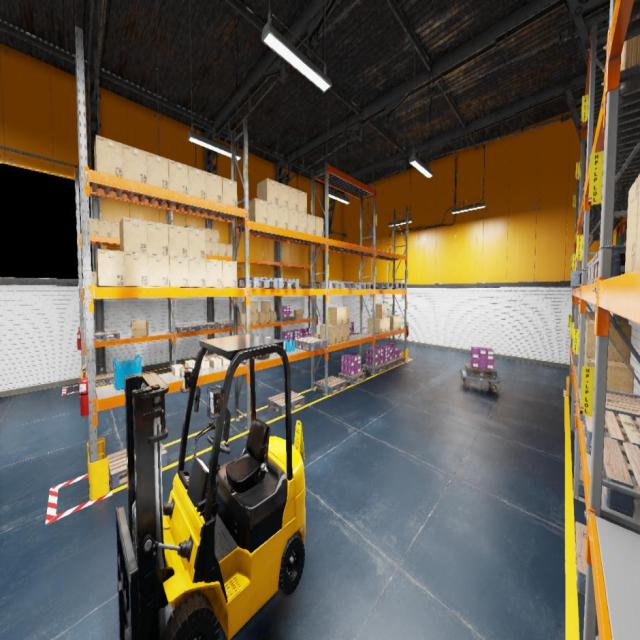box: (585, 358, 634, 398), (585, 321, 631, 363), (624, 174, 640, 273), (585, 320, 627, 354), (94, 135, 123, 177), (96, 249, 125, 287), (120, 217, 148, 254), (123, 144, 148, 184), (146, 152, 169, 189), (124, 252, 148, 286), (147, 222, 169, 256), (168, 159, 189, 194), (620, 35, 640, 71), (148, 255, 170, 287), (168, 225, 189, 257), (188, 166, 206, 199), (169, 256, 188, 287), (188, 227, 206, 259), (258, 178, 278, 204), (206, 171, 222, 203), (248, 198, 267, 224), (189, 258, 206, 287), (635, 173, 640, 270), (206, 259, 223, 287), (222, 177, 237, 207), (222, 260, 237, 287), (579, 312, 595, 336), (320, 324, 336, 345), (131, 320, 149, 336), (328, 306, 343, 325), (278, 182, 288, 208), (278, 205, 288, 229), (268, 202, 278, 226), (98, 219, 111, 237), (368, 318, 382, 334), (298, 190, 307, 214), (289, 186, 298, 210), (289, 209, 298, 232), (337, 306, 349, 323), (298, 211, 307, 233), (372, 304, 386, 318), (308, 213, 316, 236), (388, 316, 401, 329), (171, 364, 184, 376), (316, 216, 323, 237), (90, 219, 98, 236), (200, 355, 209, 370), (111, 222, 119, 238), (204, 227, 212, 242), (237, 312, 245, 326), (210, 358, 221, 368), (186, 360, 196, 371), (242, 302, 252, 313), (218, 356, 230, 365), (343, 324, 349, 342), (219, 243, 227, 256), (212, 242, 220, 255), (337, 325, 343, 342), (293, 309, 303, 319), (261, 301, 270, 312), (91, 272, 97, 286), (212, 230, 219, 242), (263, 312, 270, 323), (258, 312, 265, 323), (252, 301, 258, 313), (206, 242, 212, 254), (381, 319, 386, 333), (270, 311, 276, 322), (604, 59, 606, 90), (227, 244, 232, 256), (253, 313, 258, 324), (184, 224, 196, 228), (386, 317, 389, 332), (578, 336, 579, 361), (584, 354, 586, 366), (196, 227, 204, 230), (250, 314, 252, 324)
forklift: (125, 334, 305, 639)
pallets: (602, 436, 640, 517), (583, 410, 639, 464), (107, 443, 167, 489), (578, 388, 640, 432), (592, 248, 626, 282), (587, 258, 625, 285), (571, 269, 625, 287), (268, 390, 304, 414), (575, 522, 586, 596), (577, 274, 624, 286), (293, 336, 327, 352), (316, 376, 346, 394), (465, 364, 496, 378), (238, 277, 277, 288), (338, 371, 366, 385), (270, 278, 299, 288), (95, 372, 114, 386), (94, 331, 120, 341), (363, 364, 388, 374), (579, 457, 585, 496), (194, 354, 217, 364), (315, 280, 343, 288), (175, 324, 199, 333), (194, 322, 217, 330), (338, 281, 357, 289), (574, 432, 580, 456), (214, 321, 233, 328), (375, 282, 397, 288), (392, 355, 405, 365), (352, 282, 370, 289), (384, 360, 396, 370), (277, 316, 294, 322), (397, 283, 405, 288), (292, 285, 305, 288), (212, 354, 220, 358), (302, 285, 311, 288), (349, 332, 355, 335), (574, 416, 575, 428), (299, 342, 299, 346)
